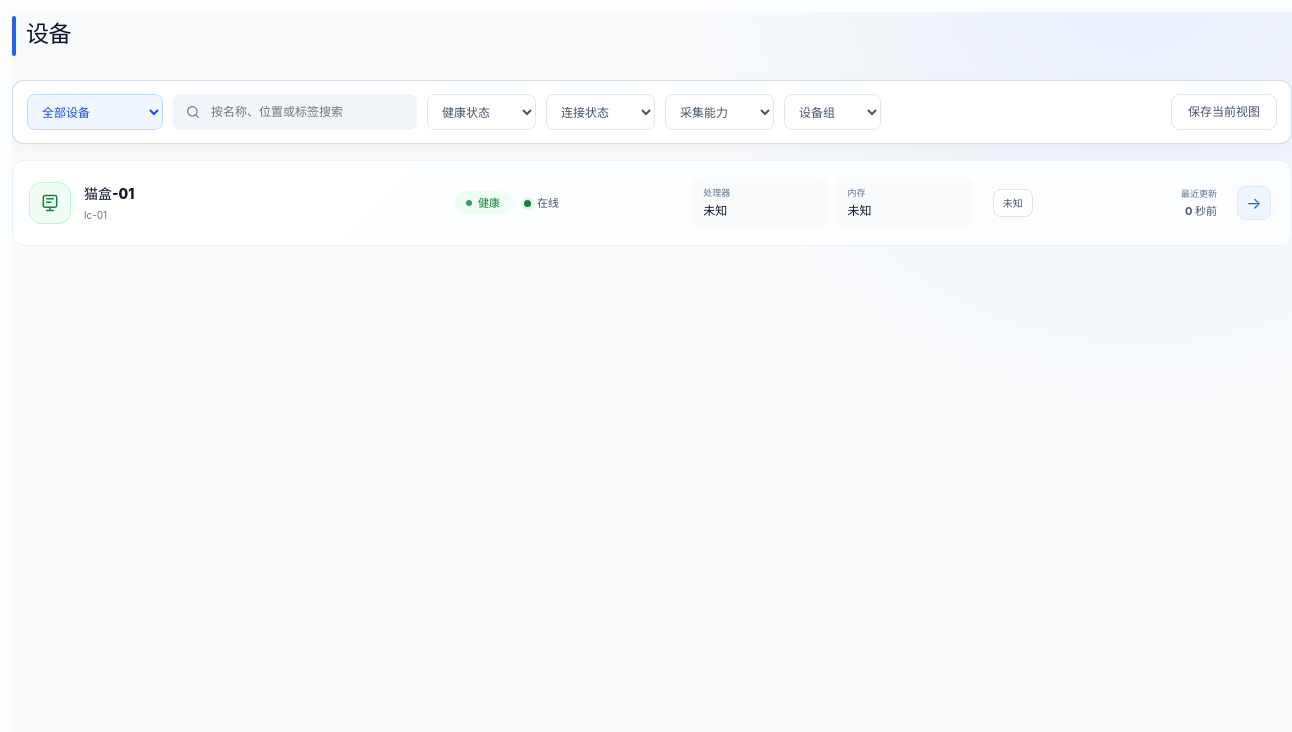
DevicesPage detail tabs › deduplicates SMART sources and maps evidence to the correct severity
Click the button with class "row-link". click: (109,194)
box: x1=84 y1=183 x2=134 y2=204
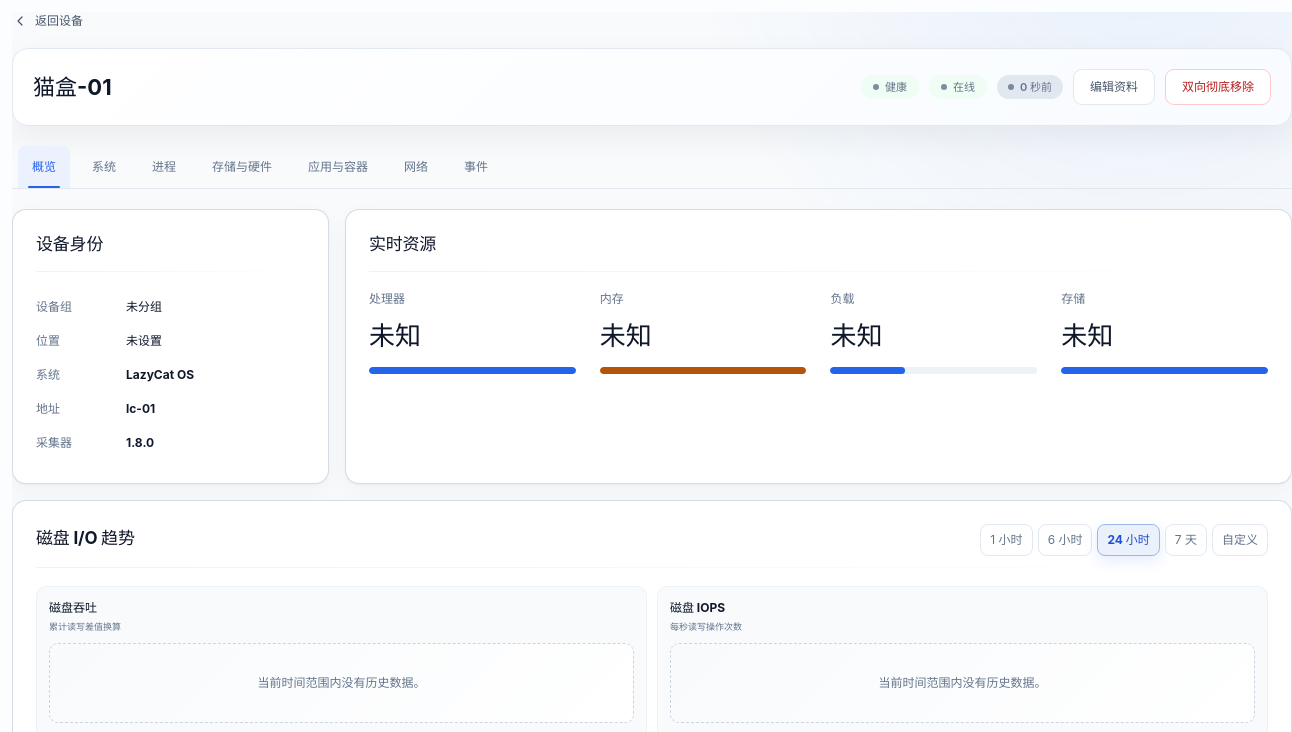
Click the tab with id "device-tab-storage". click: (242,167)
box: x1=198 y1=146 x2=286 y2=188
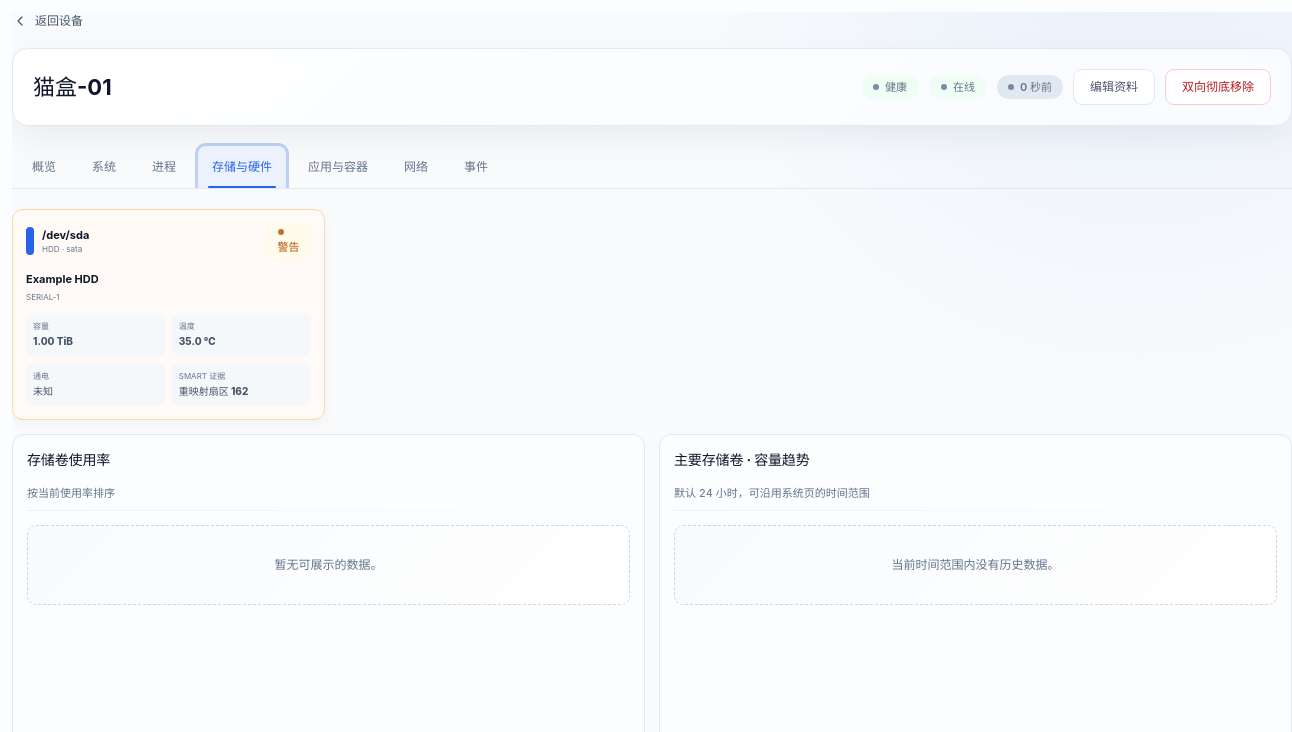
Result: the element that starts with "/dev/sda" shows "警告" at x1=278 y1=240 x2=300 y2=254
Result: the element that starts with "/dev/sda" shows "SMART 证据" at x1=179 y1=371 x2=225 y2=381
Result: the element that starts with "/dev/sda" shows "重映射扇区 162" at x1=179 y1=385 x2=248 y2=397
